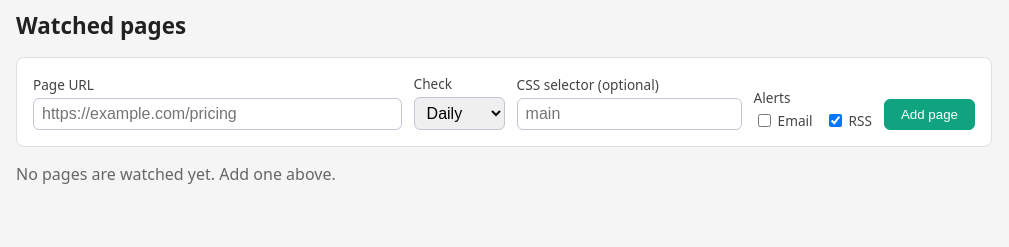
the API reason for rejecting a page is shown under the form, and the input is kept
This screenshot has width=1009, height=247.
Step 1. Type "http://10.0.0.1" into the field labelled "Page URL" → (217, 114), box [33, 98, 402, 130]
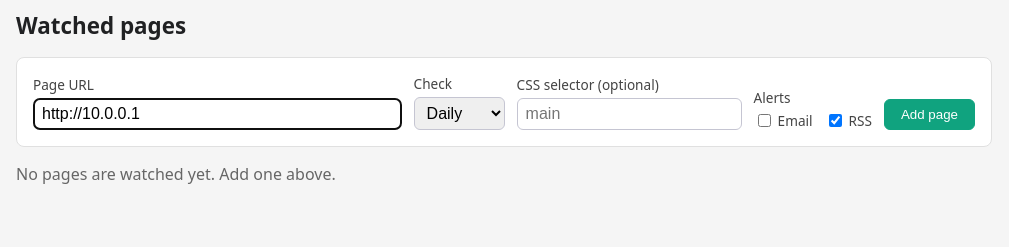
Step 2. Click the button "Add page" → (929, 114), box [884, 99, 975, 130]
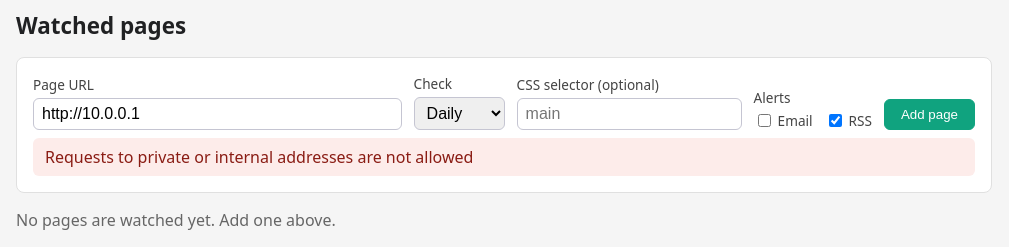
Check: the message shows "private or internal addresses", box [45, 146, 473, 168]
